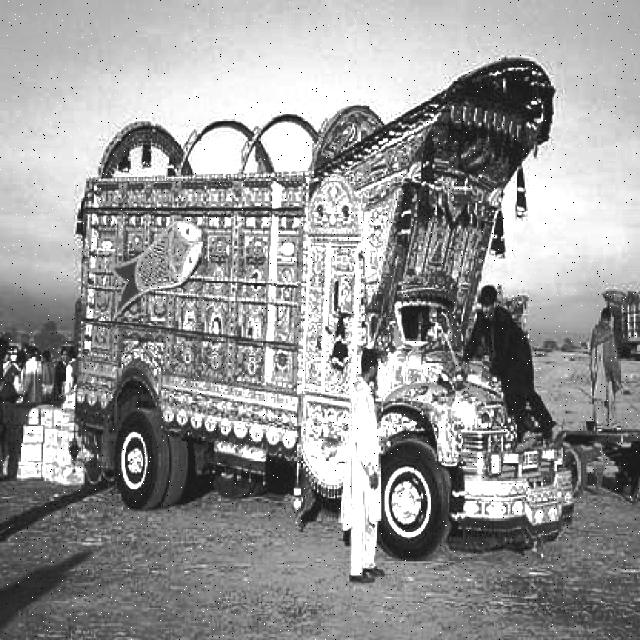HCV: (73, 117, 554, 549)
